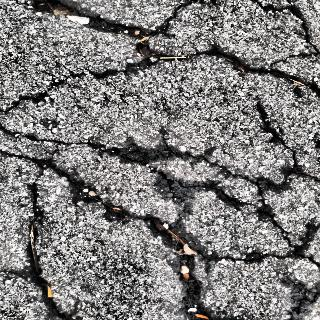alligator-crack: (9, 1, 316, 317)
